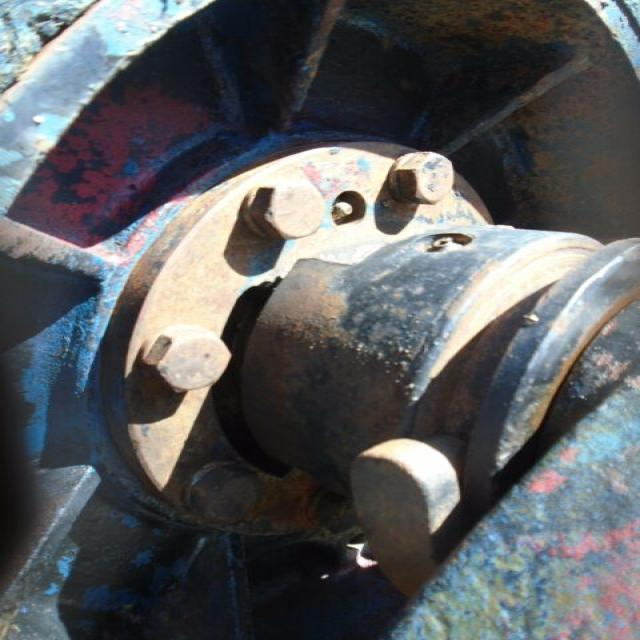blur bolt: (185, 460, 267, 526)
bolt head: (138, 325, 234, 394), (244, 174, 329, 241), (392, 144, 456, 206)
